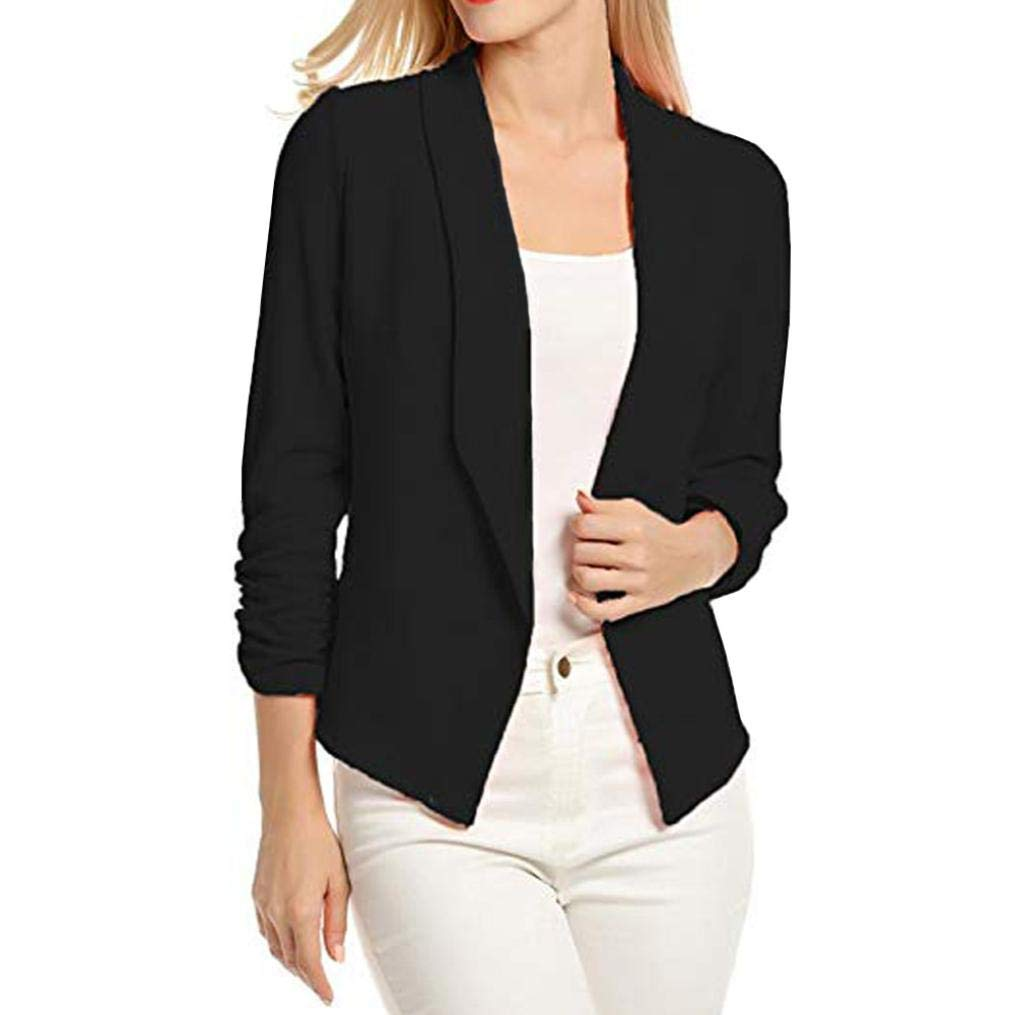F_W_suit jacket: (250, 45, 789, 795)
